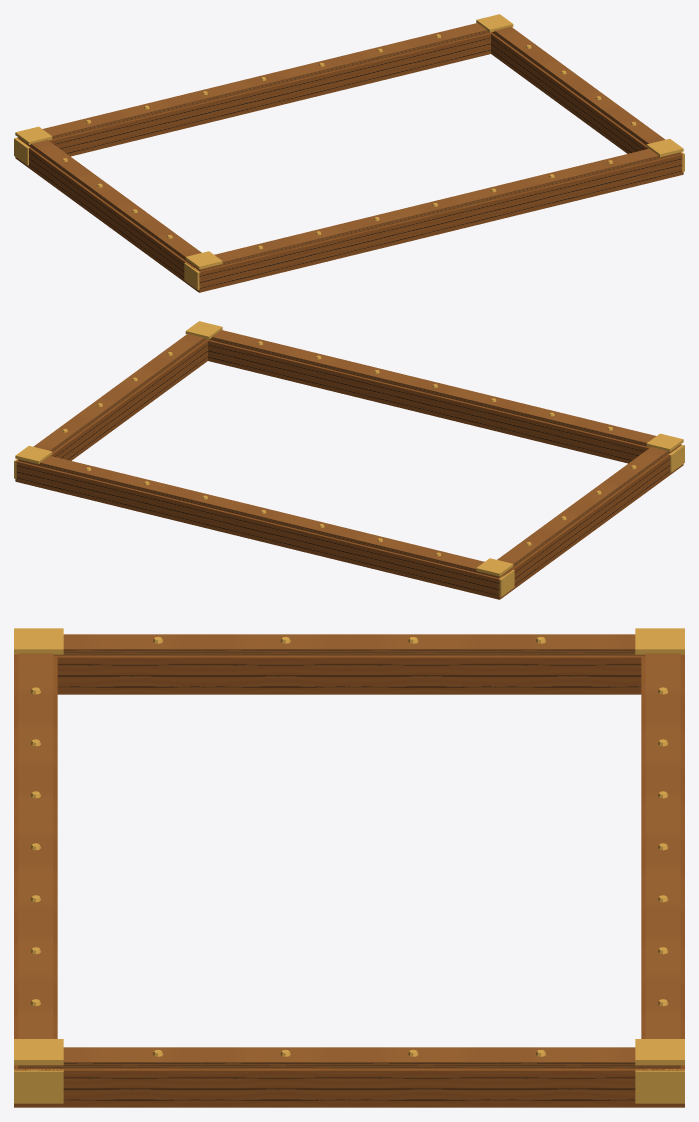
File: Rim_Wood.fbx
The picture shows the model from 3 angles, top to bottom: view 1: azimuth 30°, elevation 25°; view 2: azimuth 150°, elevation 25°; view 3: azimuth 270°, elevation 25°; orthographic projection. The views are drawn at different scales.
Visible parts, largest first — view 1: Rim_Wood; view 2: Rim_Wood; view 3: Rim_Wood.
Boxes of the visible parts, left/top/right/bottom form: Rim_Wood: left=14, top=14, right=684, bottom=292; Rim_Wood: left=14, top=321, right=684, bottom=599; Rim_Wood: left=14, top=628, right=684, bottom=1107.
Size of the model in its own units: 3.52 by 0.18 by 2.3.
Materials: 1 (1 with a texture image).
